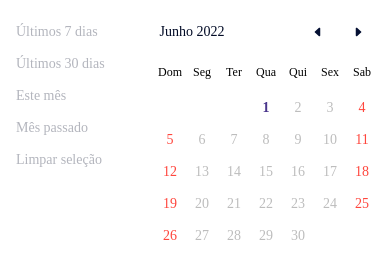
Test: <RangeCalendar /> › should select the last thirty days
The image size is (388, 257).
Step 1. Click the button "Últimos 7 dias" → (74, 32), box x1=8 y1=16 x2=141 y2=48
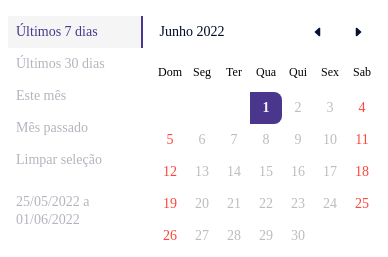
Check: the text "25/05/2022 a 01/06/2022" is shown, box x1=16 y1=194 x2=90 y2=227
